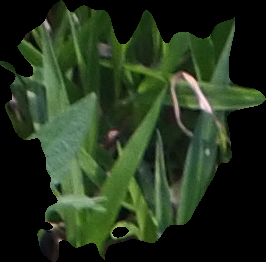grass: (1, 1, 265, 261)
